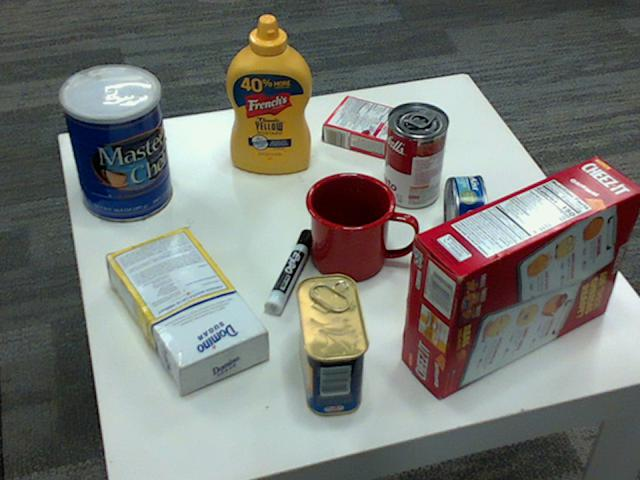cracker_box: (400, 155, 639, 396)
gelatin_box: (324, 95, 409, 156)
large_marker: (262, 231, 315, 319)
master_chef_can: (57, 65, 170, 222)
mug: (304, 170, 415, 279)
mustard_bottle: (225, 15, 311, 173)
potted_meat_can: (296, 275, 370, 415)
sugar_box: (103, 225, 266, 390)
tomato_soup_can: (382, 103, 447, 209)
tuna_fish_can: (442, 174, 486, 254)
